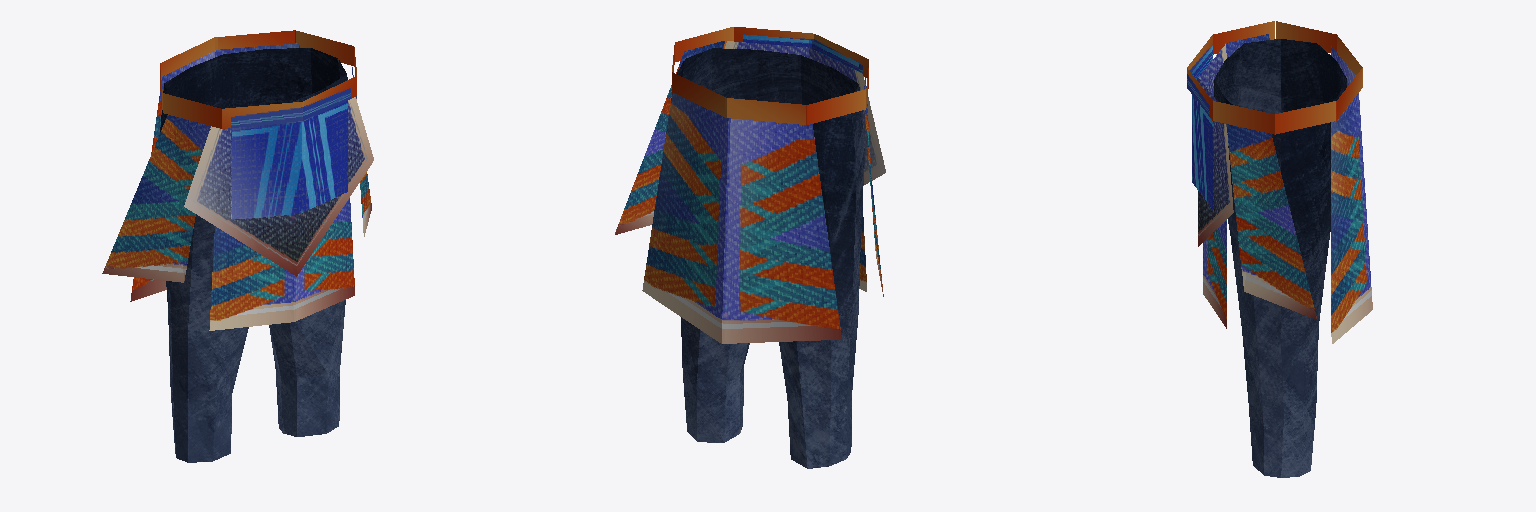
The picture shows the model from 3 angles: view 1: azimuth 30°, elevation 25°; view 2: azimuth 150°, elevation 25°; view 3: azimuth 270°, elevation 25°; orthographic projection.
Visible parts, largest first — view 1: cloth_2:Mesh; view 2: cloth_2:Mesh; view 3: cloth_2:Mesh.
Part boxes in pixels (x1,y1,x2,y2): cloth_2:Mesh: (102,30,373,462); cloth_2:Mesh: (615,27,885,468); cloth_2:Mesh: (1187,21,1372,477).
Size of the model in its own units: 264 by 352 by 158.
Materials: 1 (1 with a texture image).